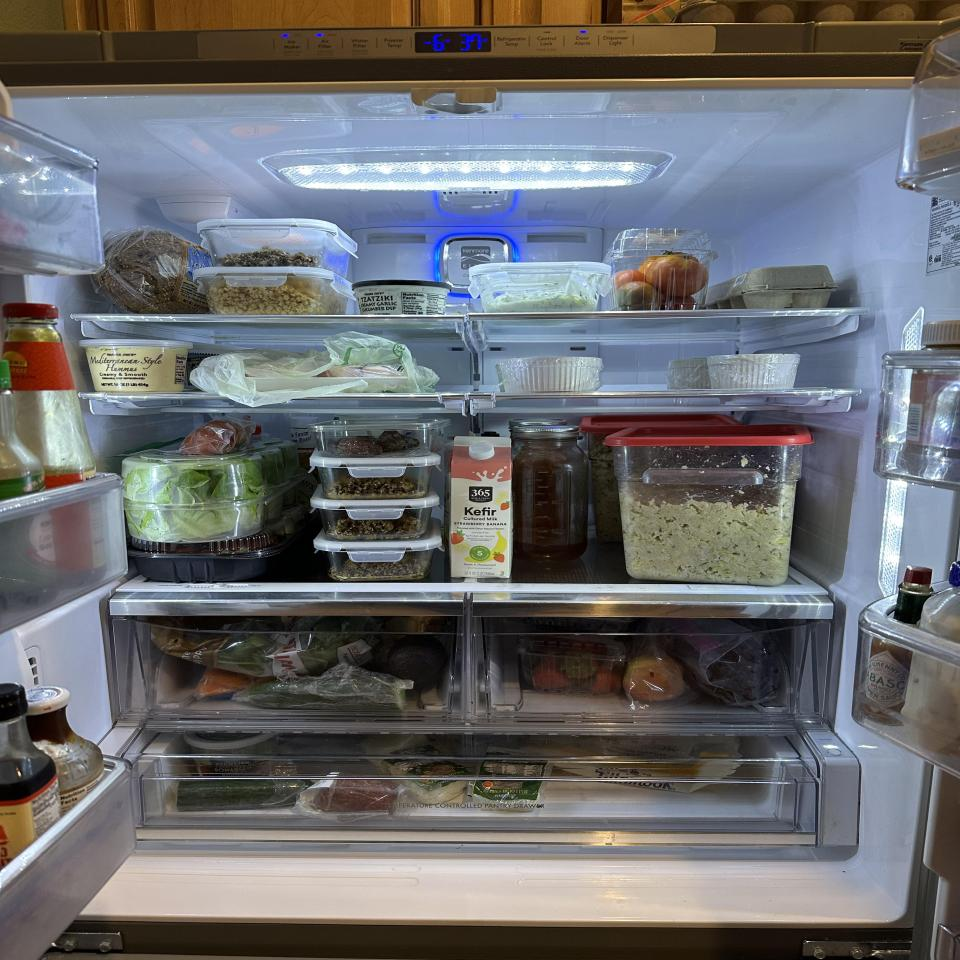Huevos: (712, 264, 836, 310)
Lechuga/Endivia: (121, 457, 265, 541)
Pepino: (174, 780, 314, 811)
strawberries: (525, 638, 623, 694)
